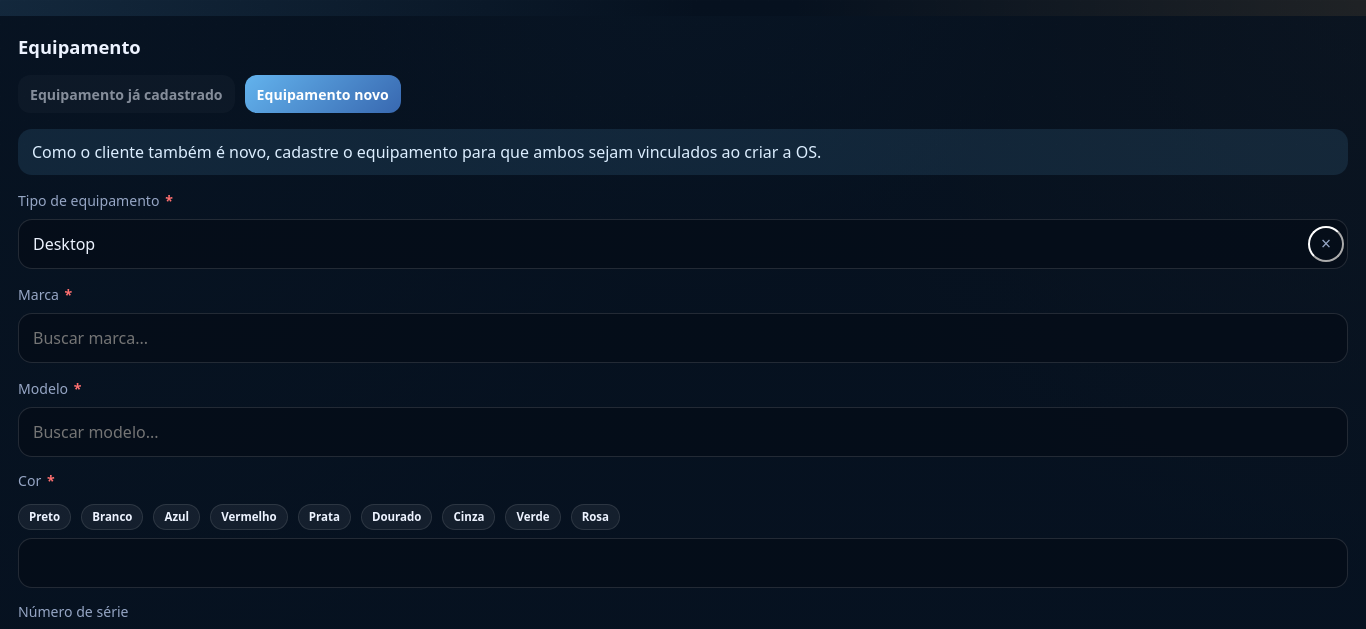
Test: StepEquipment › grava a marca nova no catálogo imediatamente e a seleciona
This screenshot has width=1366, height=629.
Click the button "Equipamento novo". click: [323, 94]
box: [245, 75, 401, 113]
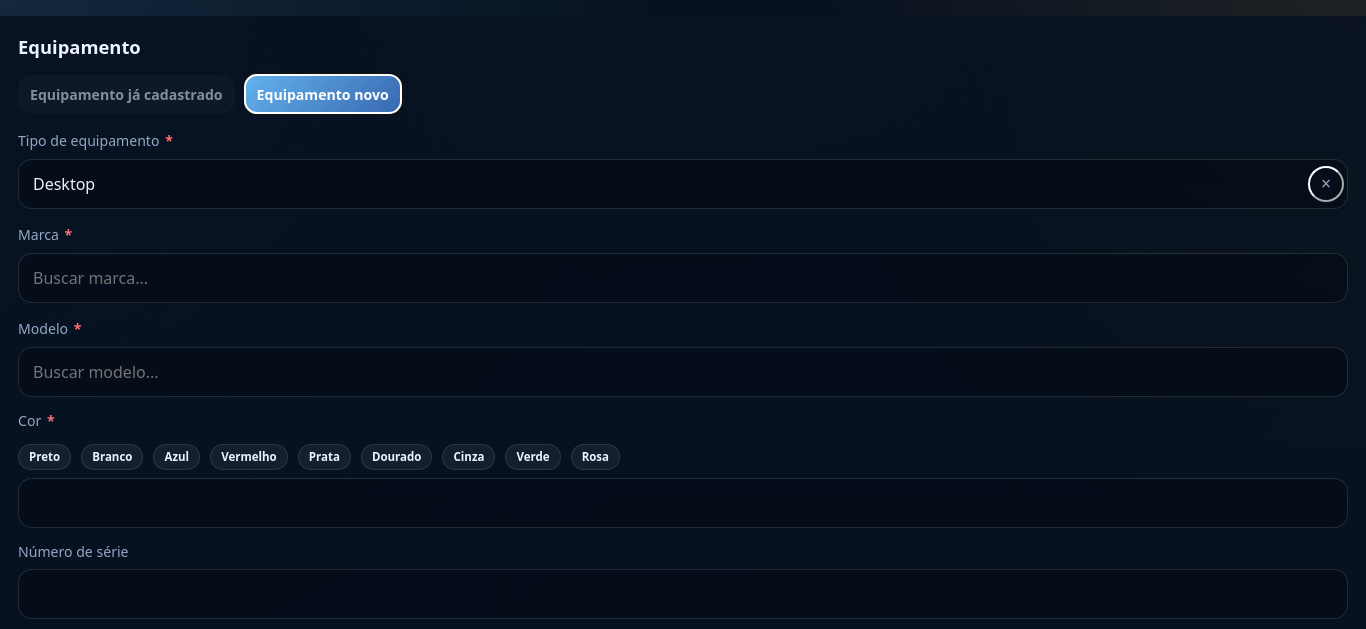
Expected: the text "Marca" is shown, [18, 225, 59, 244]
Type "Xiaomi" into the dropdown labelled "Marca *". click: [683, 278]
box: [18, 253, 1348, 303]
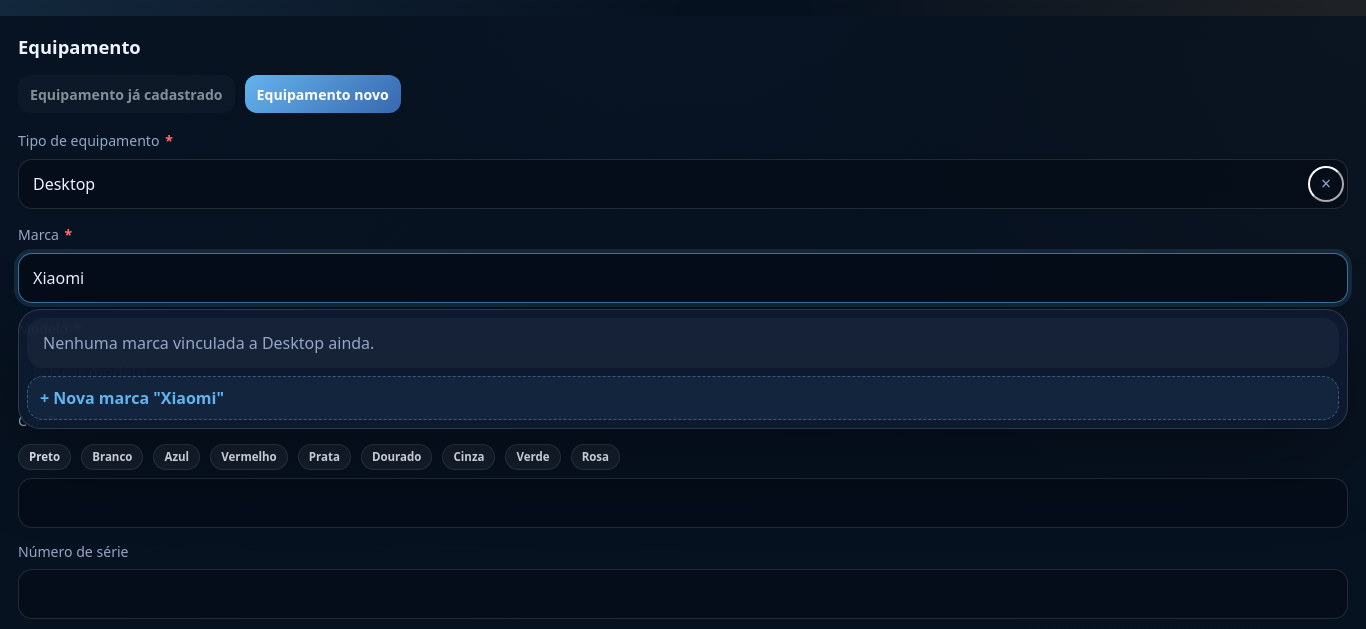
Click the button "+ Nova marca \"Xiaomi\"". click: [132, 398]
box: [27, 376, 1339, 420]
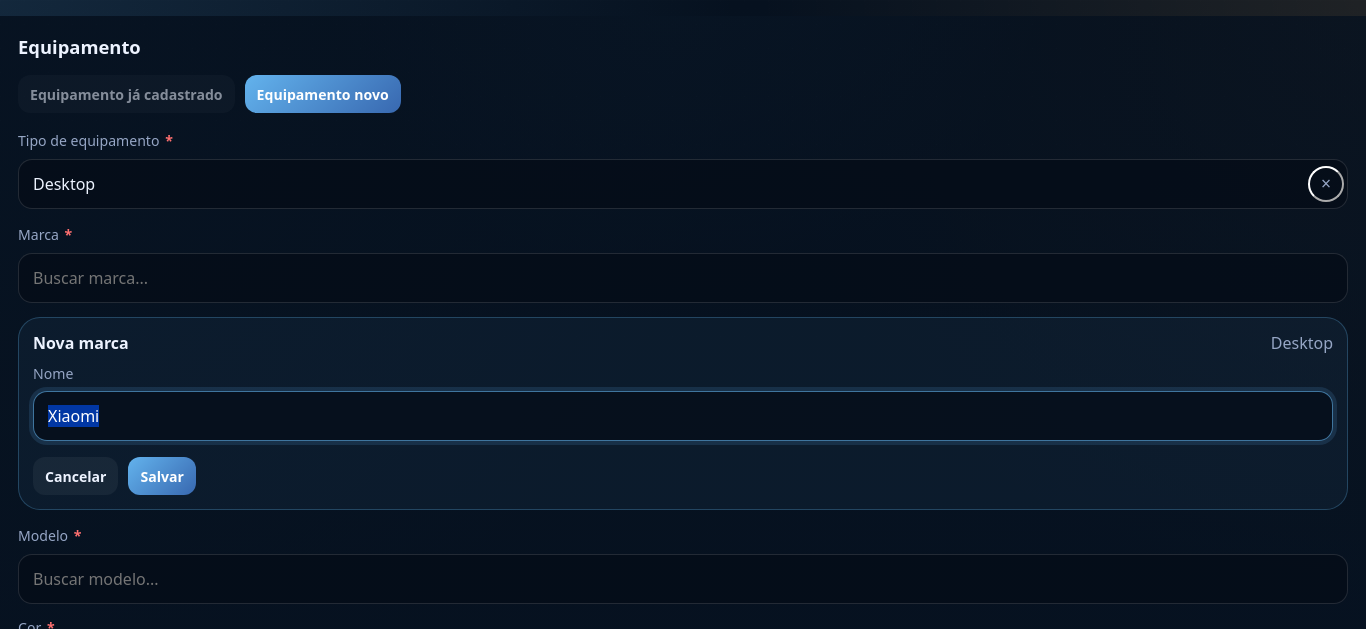
Expected: the field labelled "Nome" holds "Xiaomi", [33, 391, 1333, 441]
Click the button "Salvar". click: [162, 476]
box: [128, 457, 196, 495]
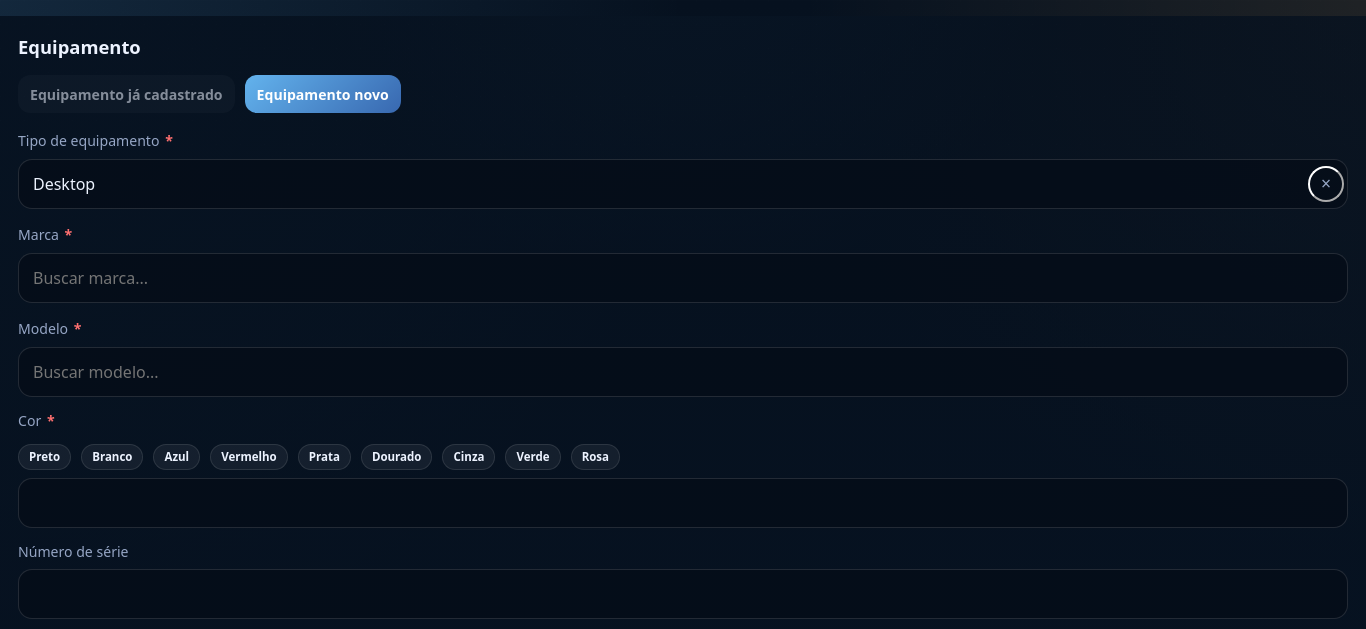
Expected: the text "Nome" is gone
